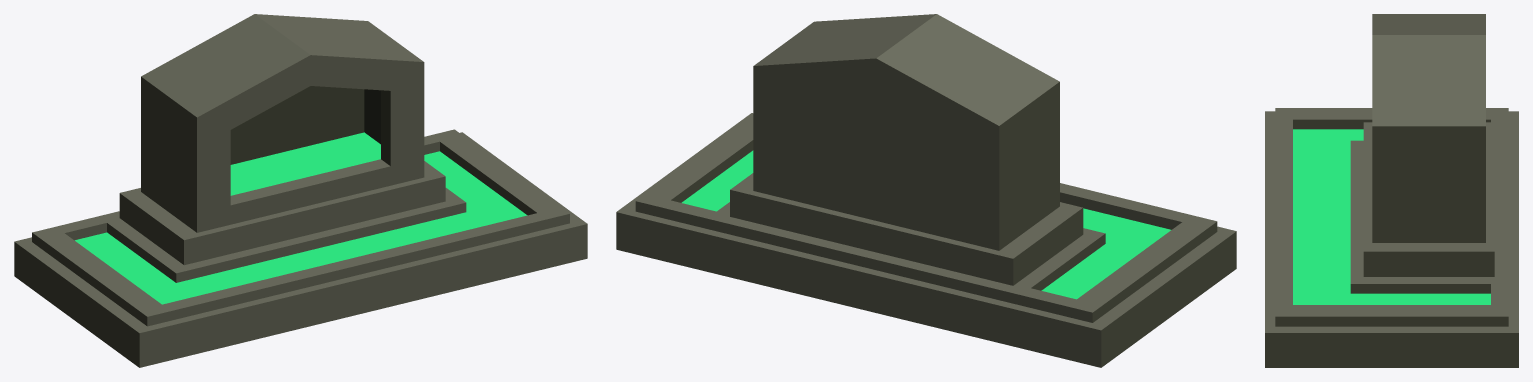
Rendered from Model_Undead_2x1A.fbx.
The picture shows the model from 3 angles, left to right: view 1: azimuth 30°, elevation 25°; view 2: azimuth 150°, elevation 25°; view 3: azimuth 270°, elevation 25°; orthographic projection. The views are drawn at different scales.
Visible parts, largest first — view 1: Model_Frost_2x1A; view 2: Model_Frost_2x1A; view 3: Model_Frost_2x1A.
Part boxes in pixels (bbox=[...]): Model_Frost_2x1A: bbox=[14, 14, 587, 367]; Model_Frost_2x1A: bbox=[616, 14, 1236, 367]; Model_Frost_2x1A: bbox=[1265, 14, 1518, 367].
Bounding box in the file's own units: 390 × 182 × 189.
Materials: 2 (1 with a texture image).
